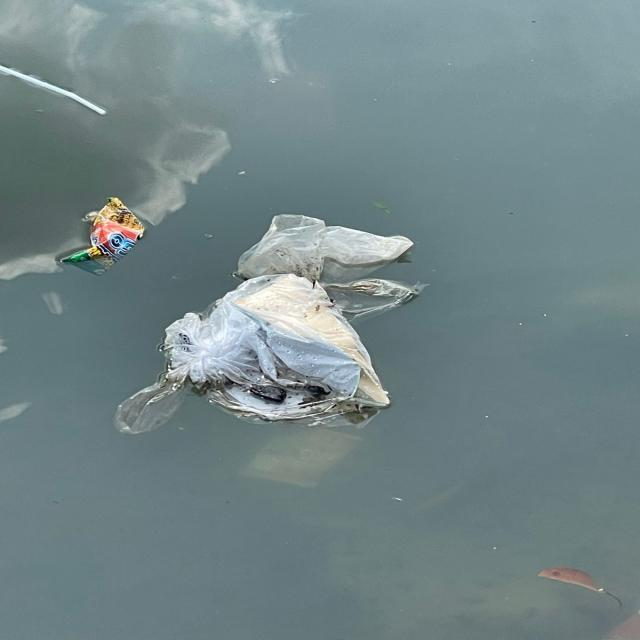Bungkus Makanan: (56, 192, 162, 291)
Kantong Plastik: (152, 199, 429, 450)
